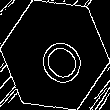O_NW: (24, 22, 86, 88)
